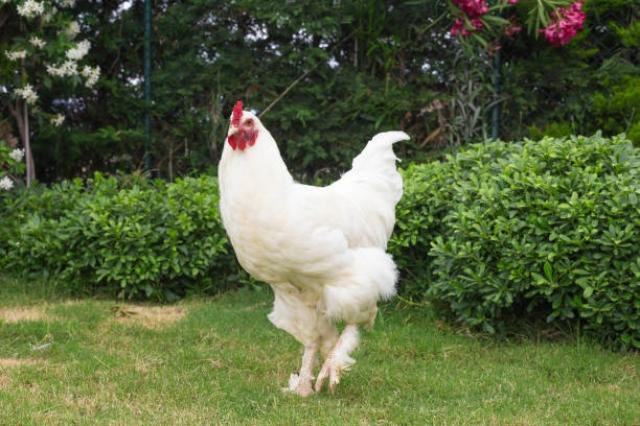Chicken: (219, 100, 410, 400)
